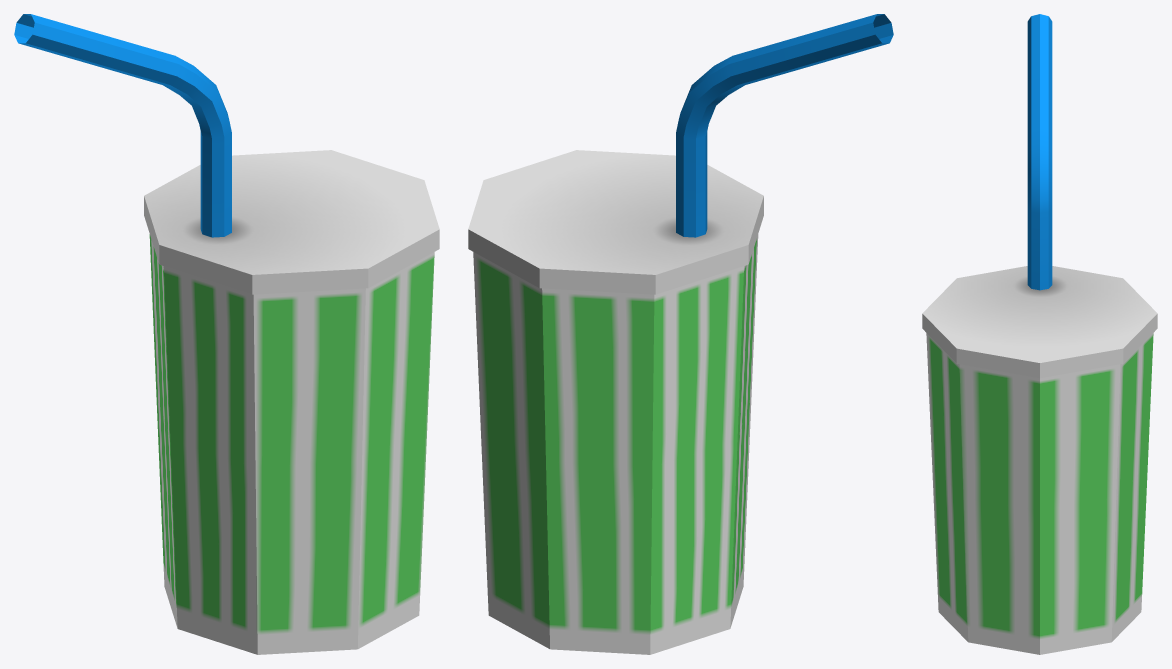
File: JuiceCupFinishedProductA.fbx
3 views of the same model, side by side, from view 1: azimuth 30°, elevation 25°; view 2: azimuth 150°, elevation 25°; view 3: azimuth 270°, elevation 25° (orthographic). The views are drawn at different scales.
Parts seen in each view (by area): view 1: JuiceCupFinishedProductA; view 2: JuiceCupFinishedProductA; view 3: JuiceCupFinishedProductA.
Boxes of the visible parts, left/top/right/bottom form: JuiceCupFinishedProductA: left=14, top=14, right=439, bottom=654; JuiceCupFinishedProductA: left=468, top=14, right=893, bottom=654; JuiceCupFinishedProductA: left=922, top=14, right=1157, bottom=654.
Size of the model in its own units: 161 by 247 by 105.
